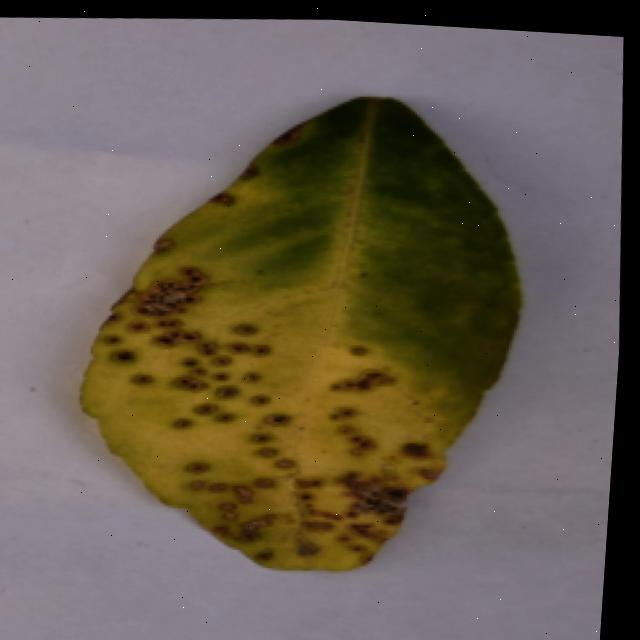canker: (85, 98, 520, 564), (170, 326, 457, 591), (66, 202, 232, 486), (192, 105, 300, 228)
